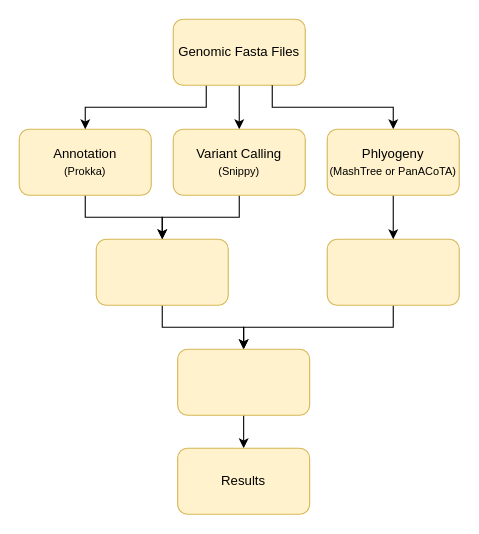
Some shapes in this 479 by 534 pixel diagram are drawn without their labels. Each missing label, with the centre of its shape:
Genotype & Phenotype Binary Tables: pixel 161 271
Machine Learning (with phylogenetic correction): pixel 243 381
Phylogenetic tree: pixel 392 271
